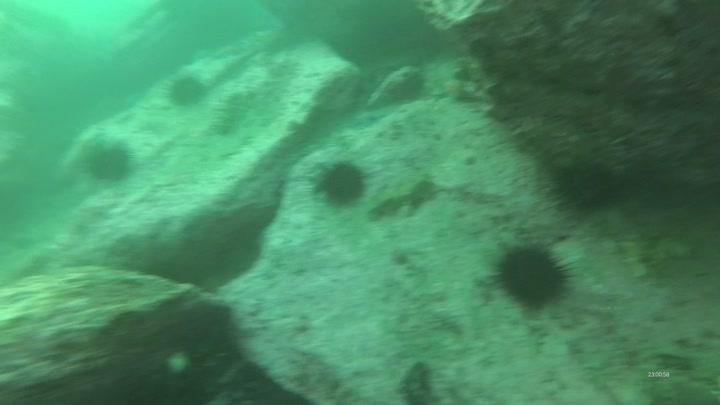echinus: (488, 237, 576, 314), (547, 154, 624, 216), (311, 158, 369, 209), (83, 140, 136, 186), (165, 72, 208, 110)
holothurian: (364, 171, 438, 222), (626, 229, 705, 275), (210, 87, 250, 139)
starfish: (432, 75, 474, 104), (343, 107, 385, 132)
